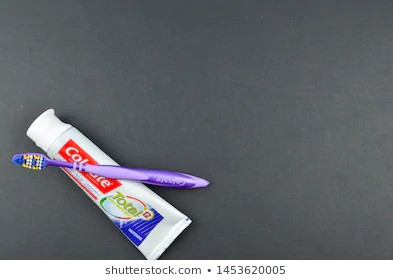toothbrush: (12, 148, 214, 196)
